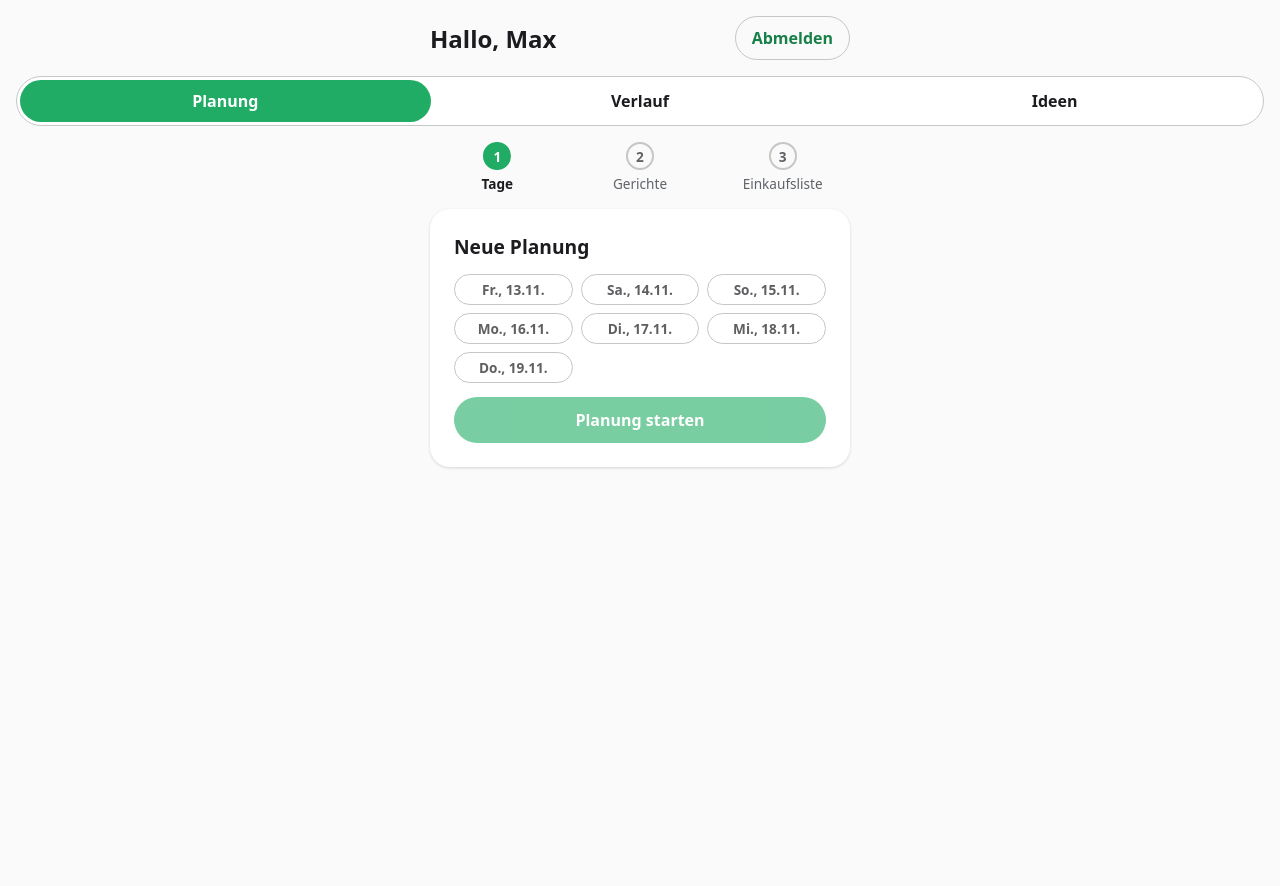
Scenario: recipe import › sends pasted text as text, not as a link
The width and height of the screenshot is (1280, 886).
Click the button "Ideen" at (1055, 101), box [849,80,1260,122]
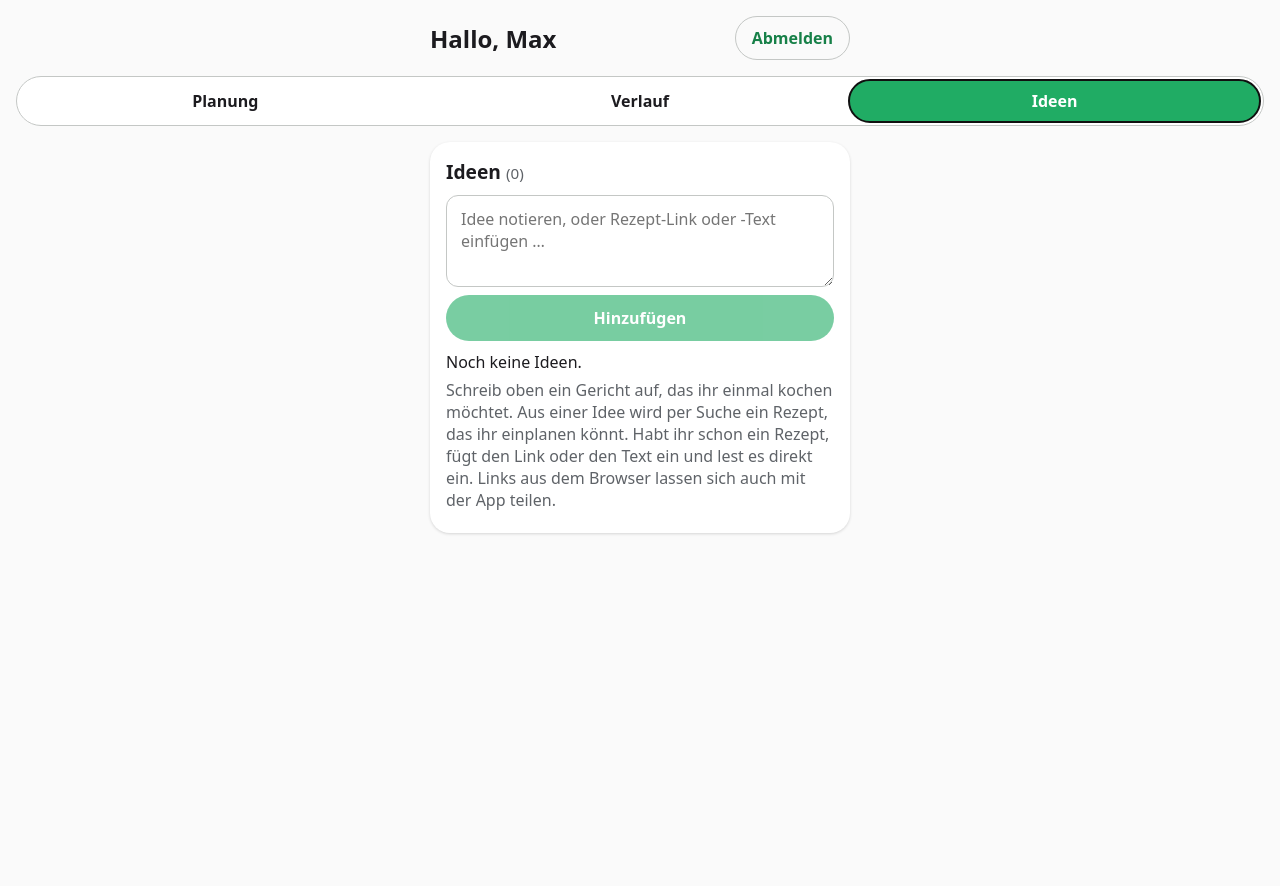
Click the text box named "Neue Idee" at (640, 241), box [446,195,834,287]
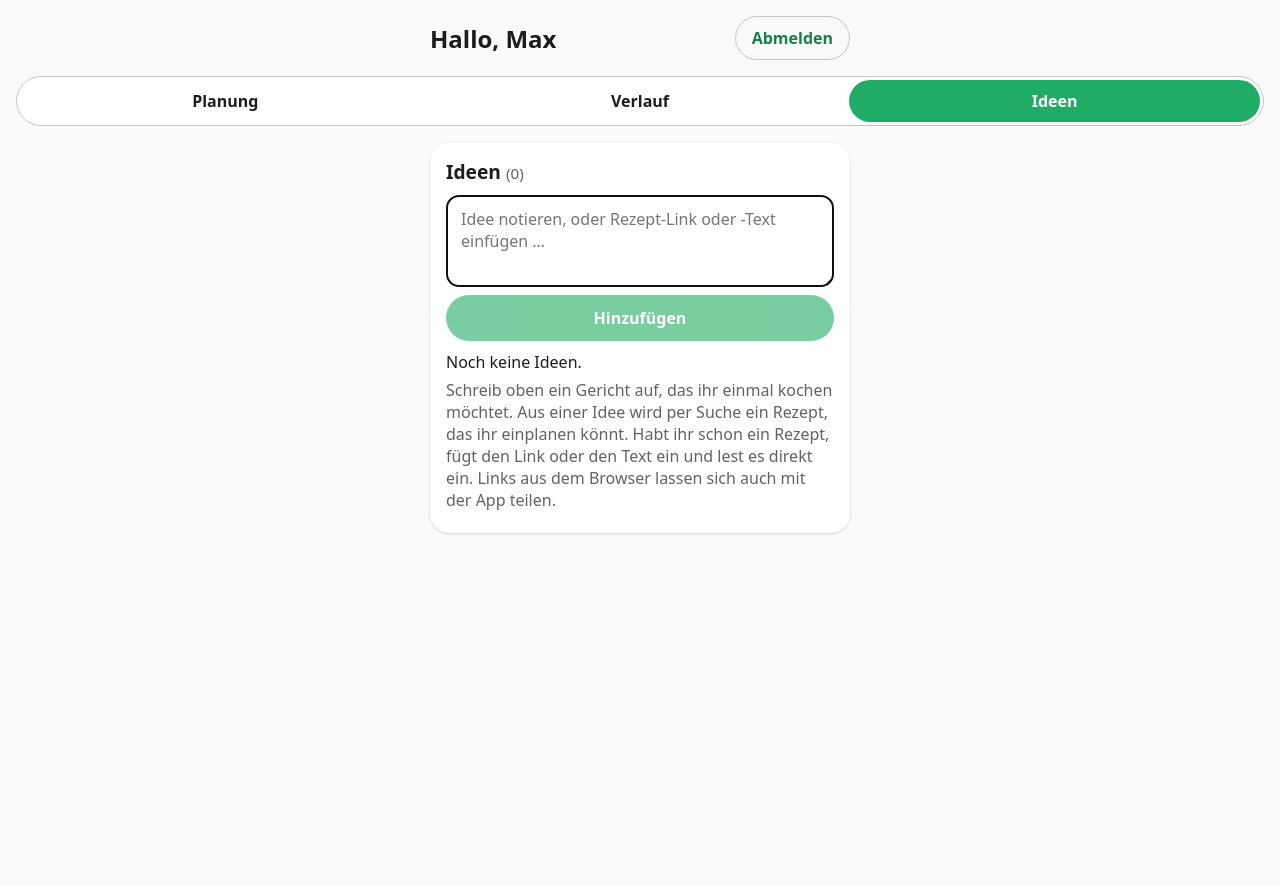
Type keys "Linsensuppe: 200 g Linsen kochen."
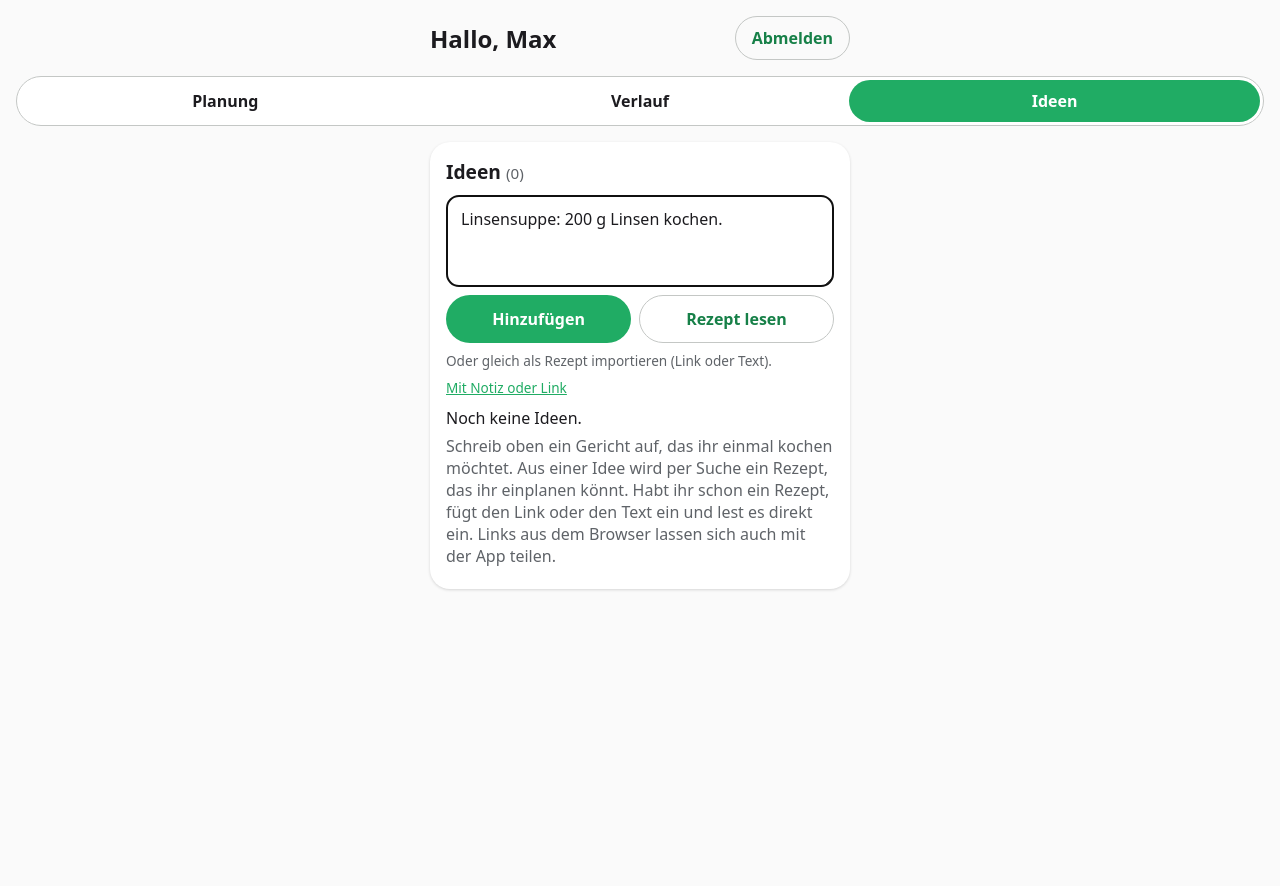
Click the button "Rezept lesen" at (737, 319), box [639,295,834,343]
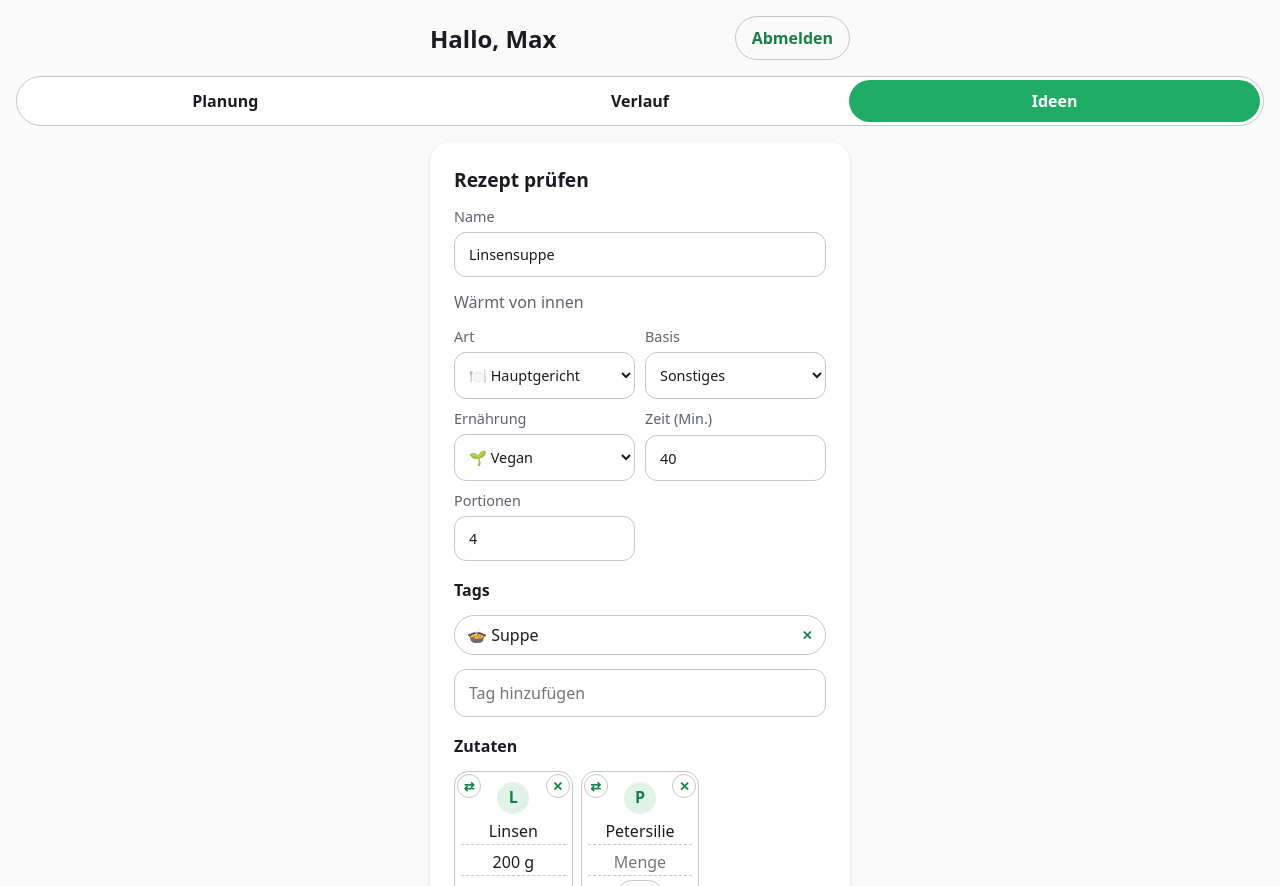
Result: the heading "Rezept prüfen" is shown at [454,166,589,193]
